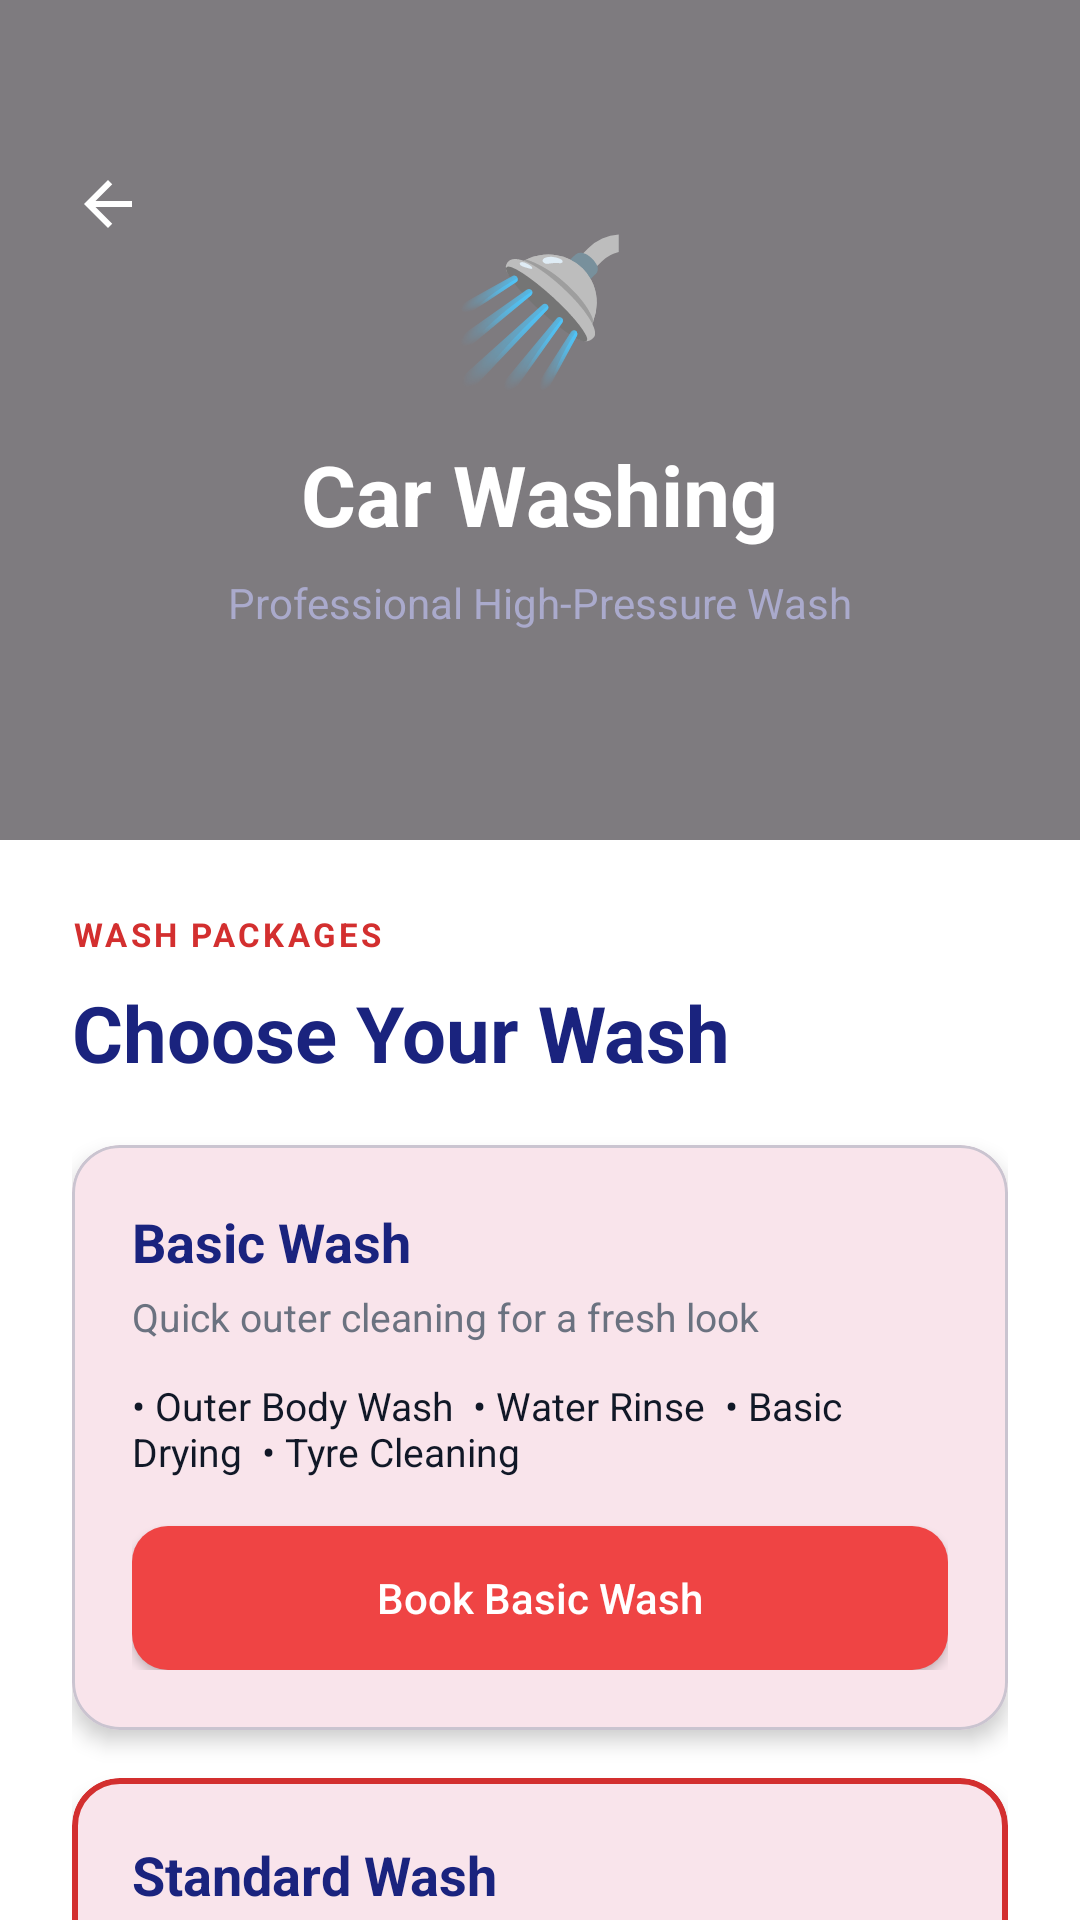

Icon bounding boxes for this 1080*1920 phone screenshot, format (x1, y1, x2, y2):
back: (84, 180, 132, 228)
